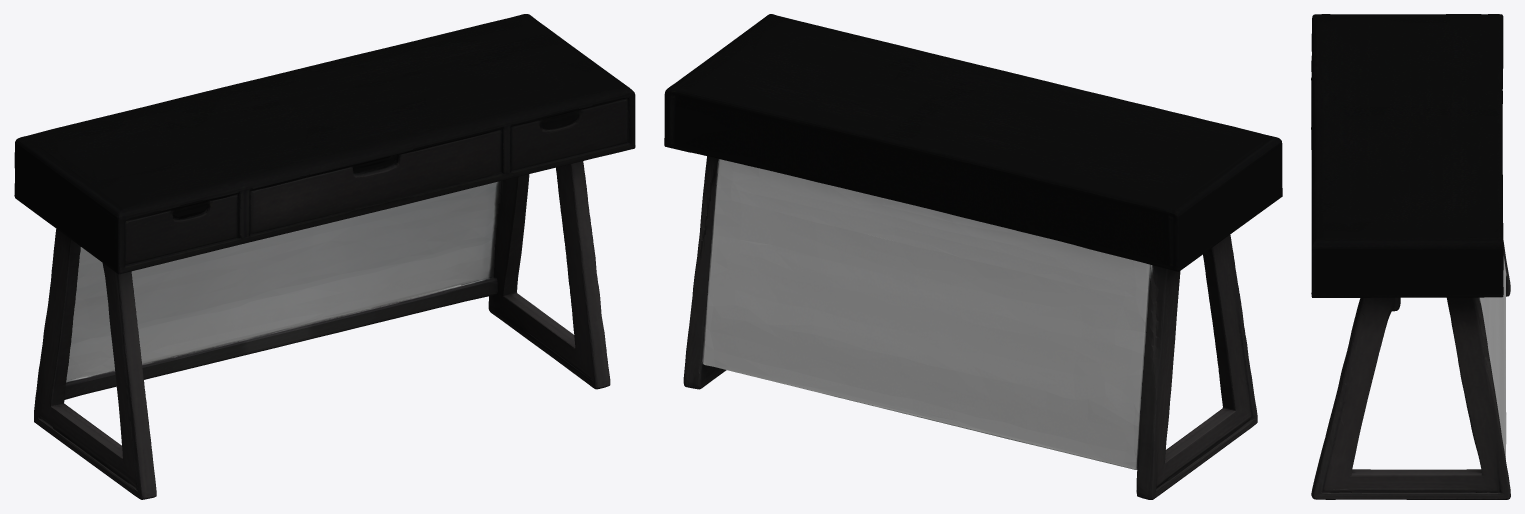
Rendered from Desk2.glb.
3 renders of one model, left to right at view 1: azimuth 30°, elevation 25°; view 2: azimuth 150°, elevation 25°; view 3: azimuth 270°, elevation 25°, orthographic. The views are drawn at different scales.
Parts seen in each view (by area): view 1: world; view 2: world; view 3: world.
Part boxes in pixels (x1=…): world: x1=14, y1=14, x2=635, y2=499; world: x1=664, y1=14, x2=1282, y2=499; world: x1=1311, y1=14, x2=1510, y2=499.
Bounding box in the file's own units: 1 × 0.5437 × 0.366.
1 material, 1 textured.
